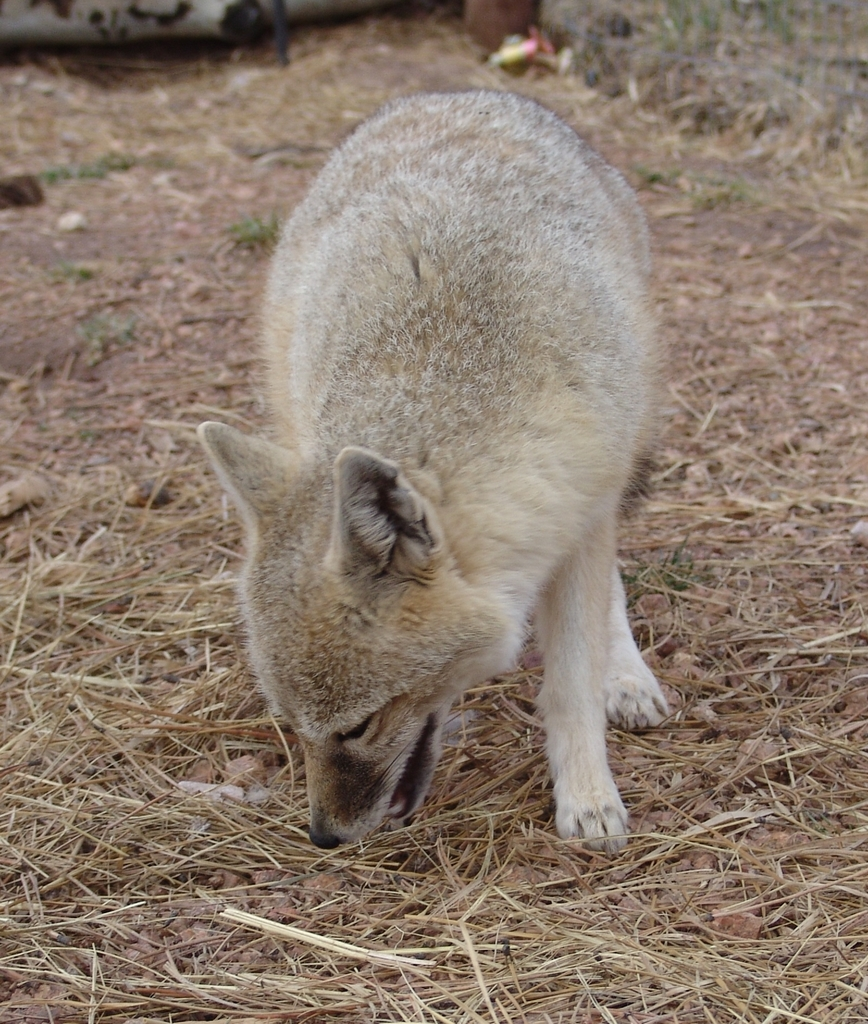Animal: (199, 83, 670, 851)
